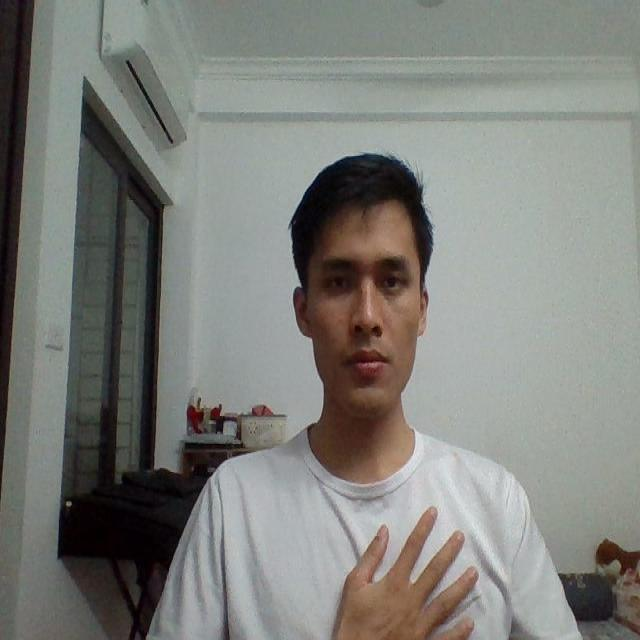please: (331, 498, 487, 640)
